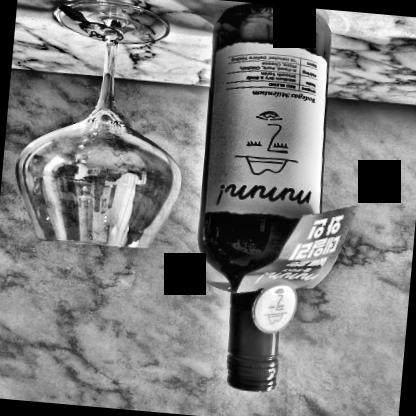umm: (202, 37, 331, 220)
